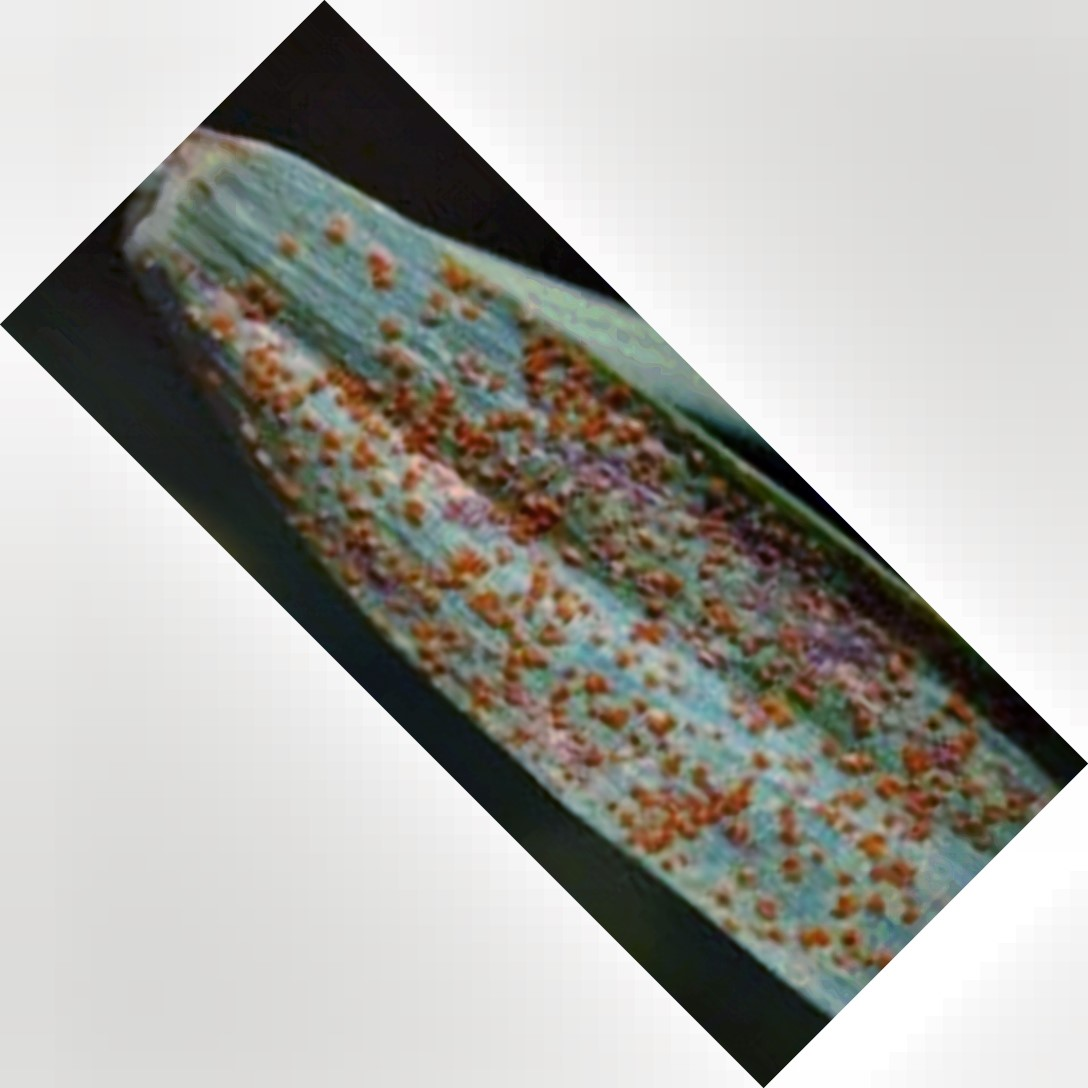Leaf Rust: (228, 278, 910, 919)
